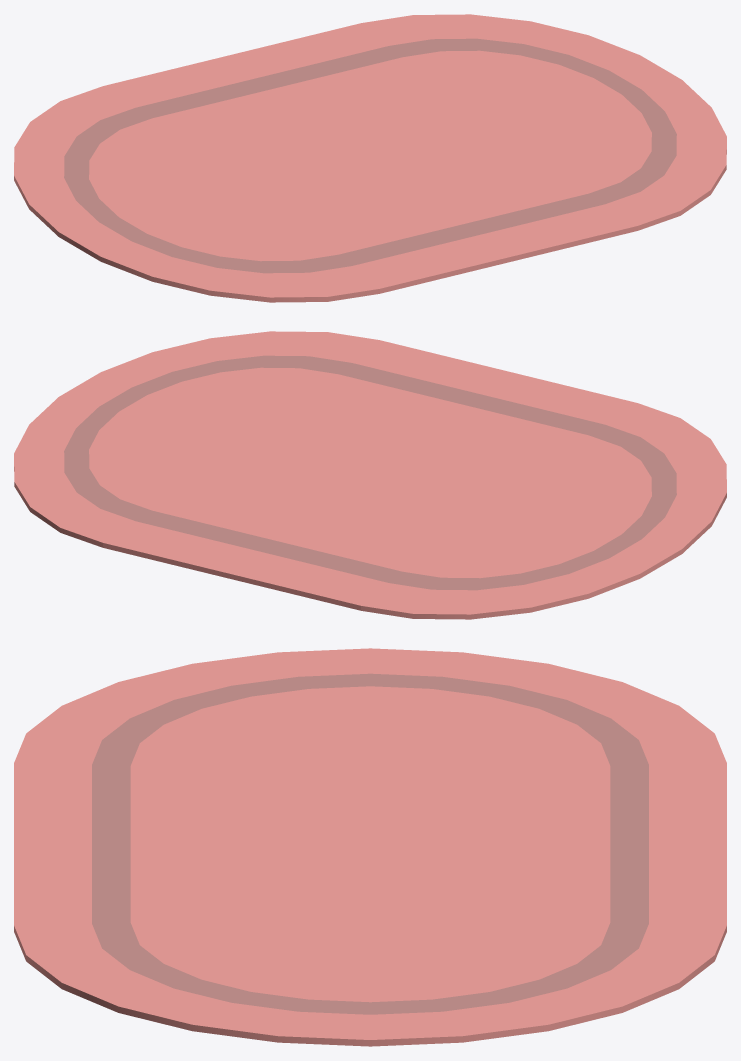
File: kk-rugRounded-bed.glb
3 views of the same model, one above another, from view 1: azimuth 30°, elevation 25°; view 2: azimuth 150°, elevation 25°; view 3: azimuth 270°, elevation 25° (orthographic). The views are drawn at different scales.
Parts seen in each view (by area): view 1: rugRounded(Clone); view 2: rugRounded(Clone); view 3: rugRounded(Clone).
Part boxes in pixels (x1,y1,x2,y2): rugRounded(Clone): (14,14,726,302); rugRounded(Clone): (14,331,726,619); rugRounded(Clone): (14,648,726,1046).
Size of the model in its own units: 1 by 0.00769 by 0.7693.
